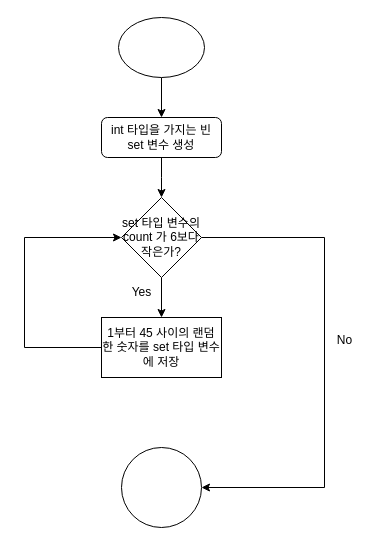
Some shapes in this 382 by 545 pixel diagram are drawn without their labels. The shapes that lost their labels are listed below. From the top down, each one's centre as x and y in pixels, then its label:
At point (161, 47): "시작".
At point (161, 487): "종료".
